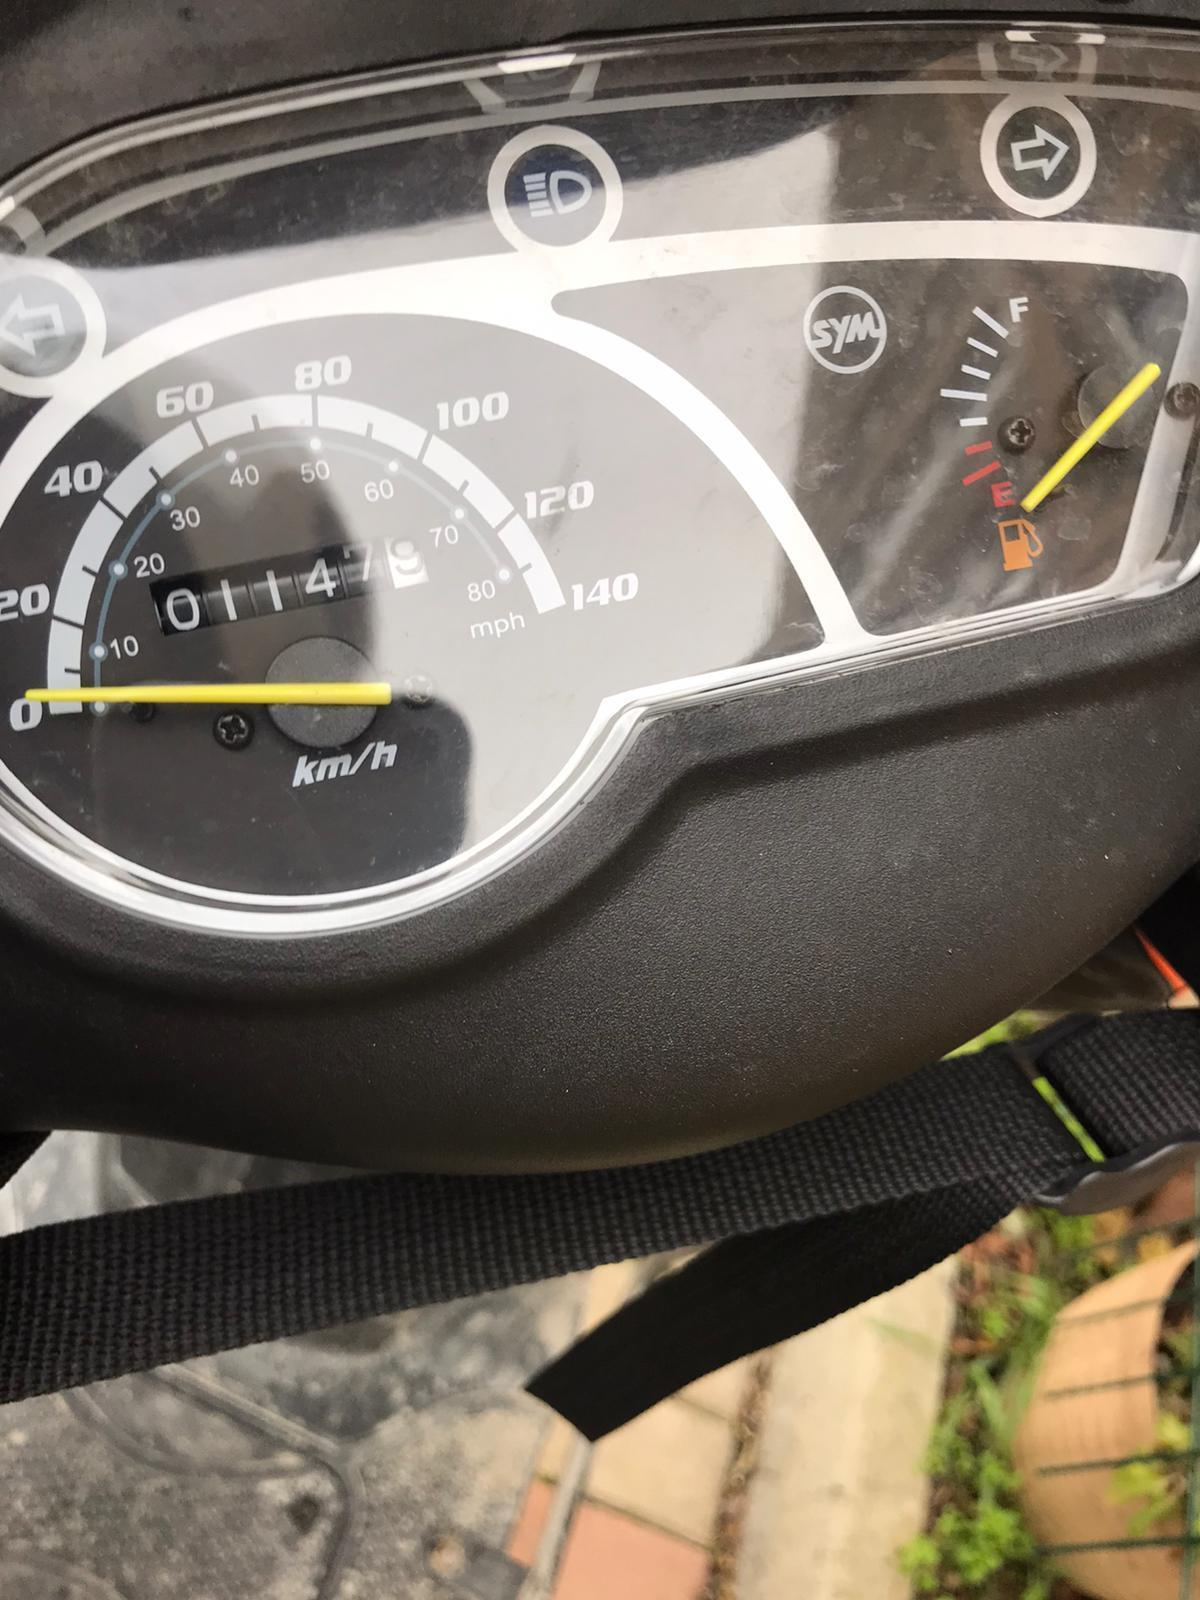0: (163, 585, 203, 636), (147, 551, 168, 574)
1: (260, 566, 287, 619), (217, 572, 242, 627)
4: (301, 556, 342, 602)
7: (343, 535, 376, 585)
9: (388, 537, 429, 587)
odometer: (145, 530, 434, 646)
